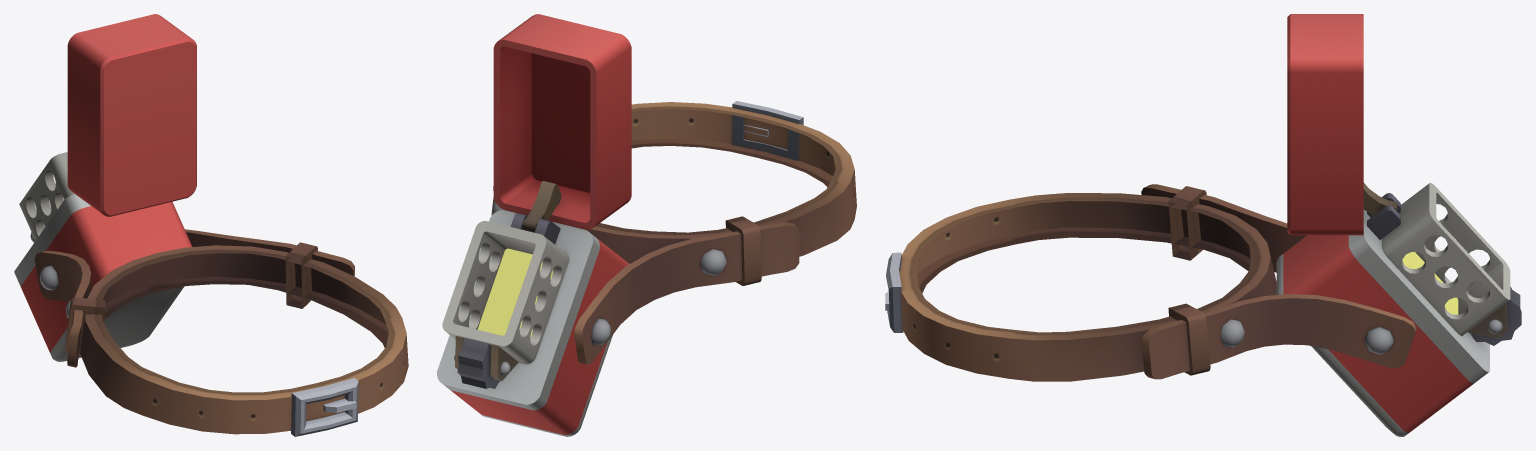
Rendered from Party_Item_Zipperlighter_Machine.fbx.
The picture shows the model from 3 angles, left to right: view 1: azimuth 30°, elevation 25°; view 2: azimuth 150°, elevation 25°; view 3: azimuth 270°, elevation 25°; orthographic projection. The views are drawn at different scales.
Visible parts, largest first — view 1: Party_Item_Zipperlighter_Machine; view 2: Party_Item_Zipperlighter_Machine; view 3: Party_Item_Zipperlighter_Machine.
Boxes of the visible parts, x1,y1,x2,y2 form: Party_Item_Zipperlighter_Machine: (14,14,408,436); Party_Item_Zipperlighter_Machine: (437,14,856,436); Party_Item_Zipperlighter_Machine: (885,14,1521,436).
Bounding box in the file's own units: 128 × 146 × 221.
